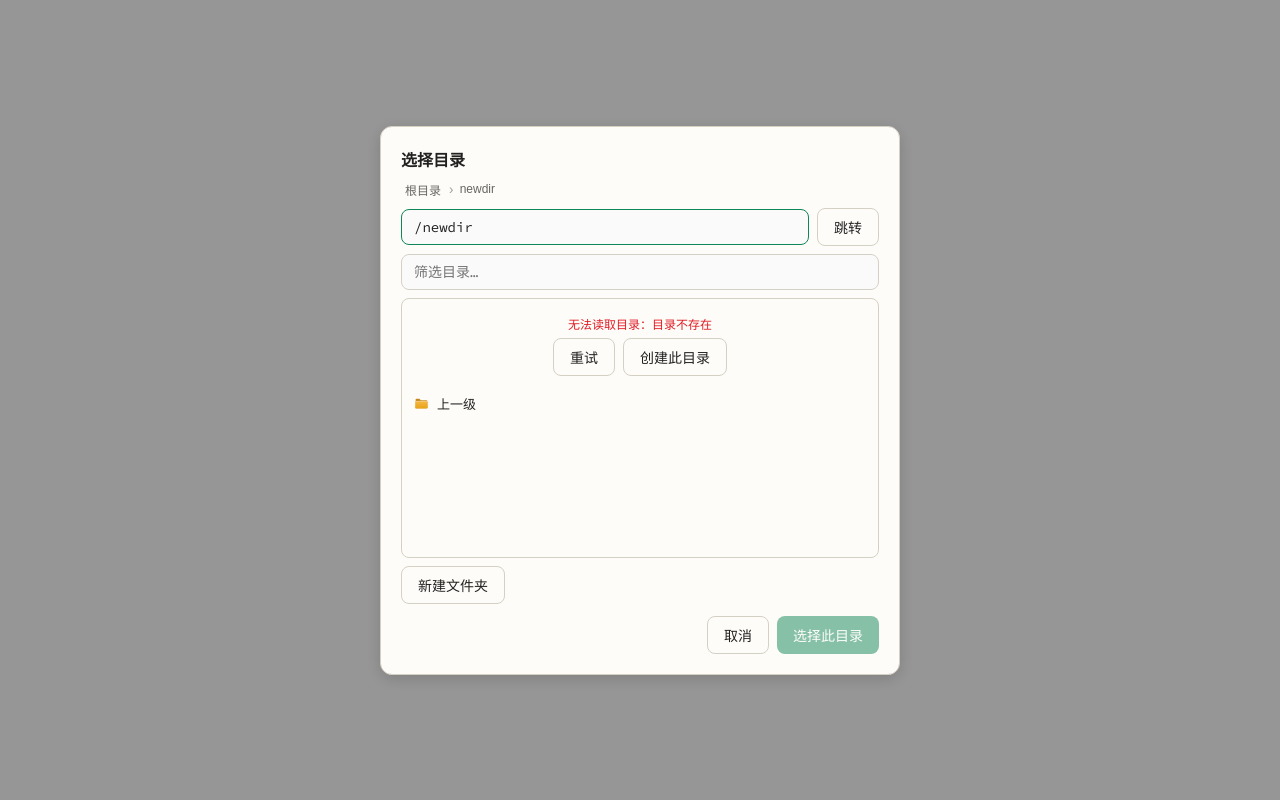
Test: RemoteDirectoryPicker 路径不存在处理 › 读取失败时提供“创建此目录”，创建成功后进入
Click the button "创建此目录". click: [675, 356]
box: x1=623 y1=338 x2=727 y2=376
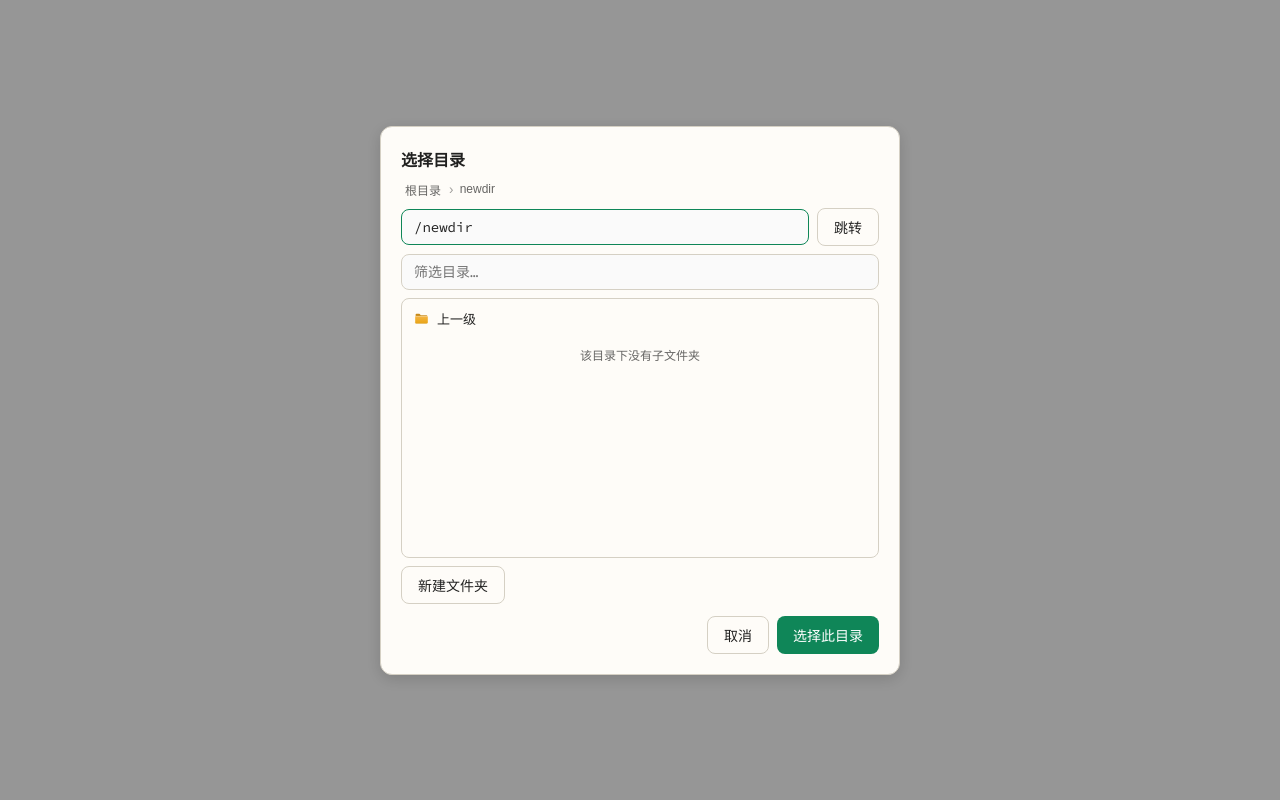
Result: the button "创建此目录" is gone
Result: the text "该目录下没有子文件夹" is shown at x1=580 y1=348 x2=700 y2=362
